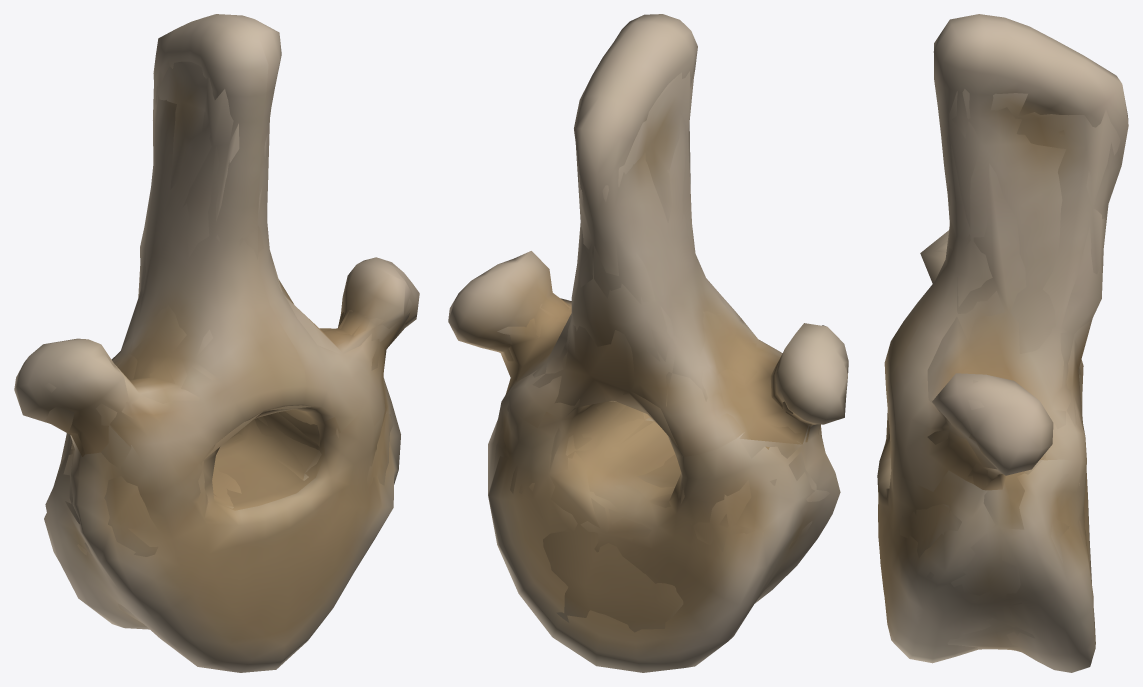
Rendered from vertebrae thoracicae 13.fbx.
3 renders of one model, left to right at view 1: azimuth 30°, elevation 25°; view 2: azimuth 150°, elevation 25°; view 3: azimuth 270°, elevation 25°, orthographic. The views are drawn at different scales.
Visible parts, largest first — view 1: vertebrae thoracicae 13, vertebrae thoracicae 13 low; view 2: vertebrae thoracicae 13, vertebrae thoracicae 13 low; view 3: vertebrae thoracicae 13, vertebrae thoracicae 13 low.
Boxes of the visible parts, x1=… form: vertebrae thoracicae 13: x1=14, y1=14, x2=419, y2=672; vertebrae thoracicae 13 low: x1=44, y1=61, x2=412, y2=623; vertebrae thoracicae 13: x1=448, y1=14, x2=848, y2=672; vertebrae thoracicae 13 low: x1=491, y1=69, x2=846, y2=632; vertebrae thoracicae 13: x1=877, y1=14, x2=1128, y2=672; vertebrae thoracicae 13 low: x1=884, y1=84, x2=1120, y2=649.
Bounding box in the file's own units: 7.83 × 11.88 × 4.18.
Materials: 1 (1 with a texture image).
